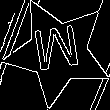M_S: (31, 24, 85, 81)
